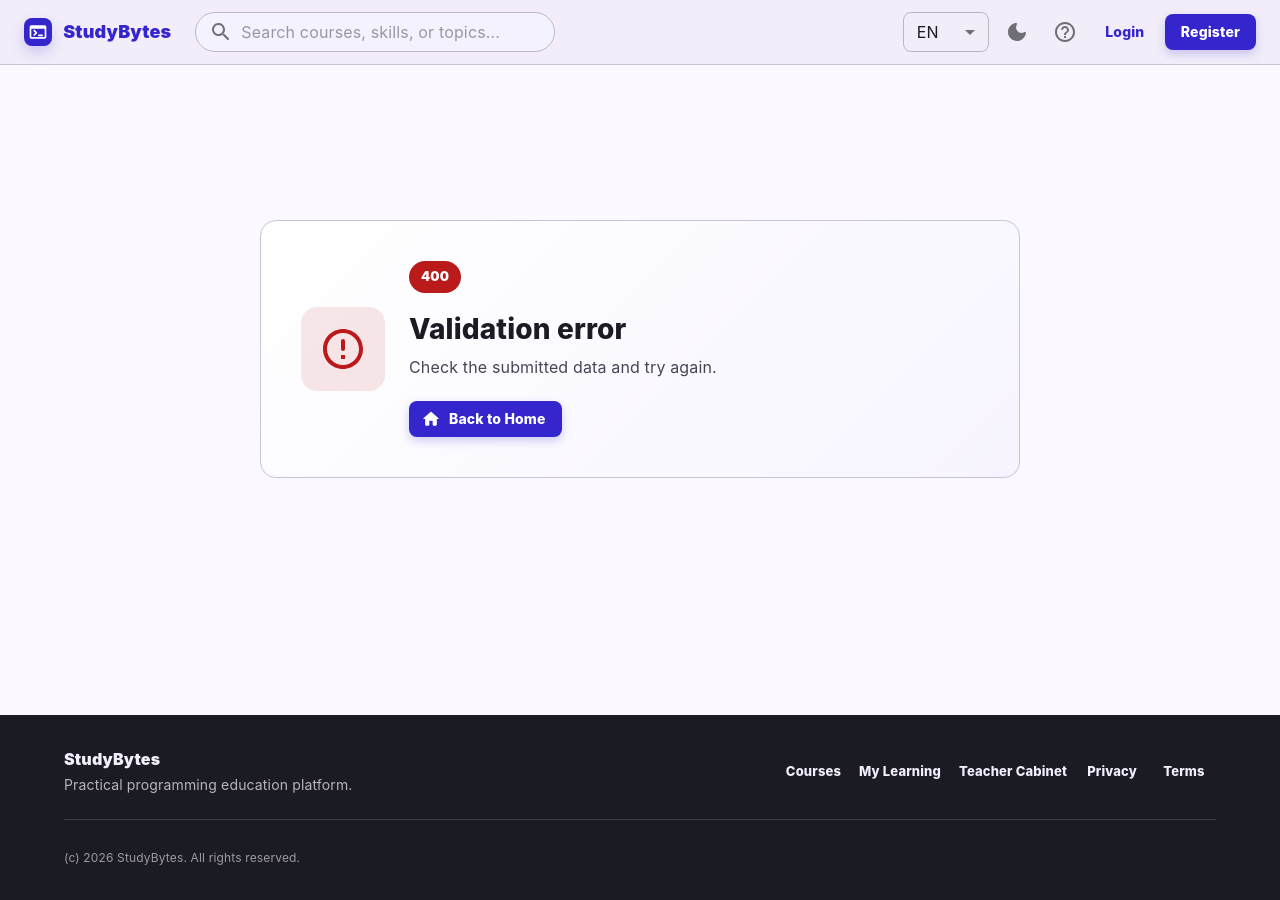
Scenario: StudyBytes final QA states › changes language through the switcher
Expected: the heading "Validation error" is shown, [409,312,626,346]
Step 1. Click the dropdown → x=928, y=32, box [917,22,939,42]
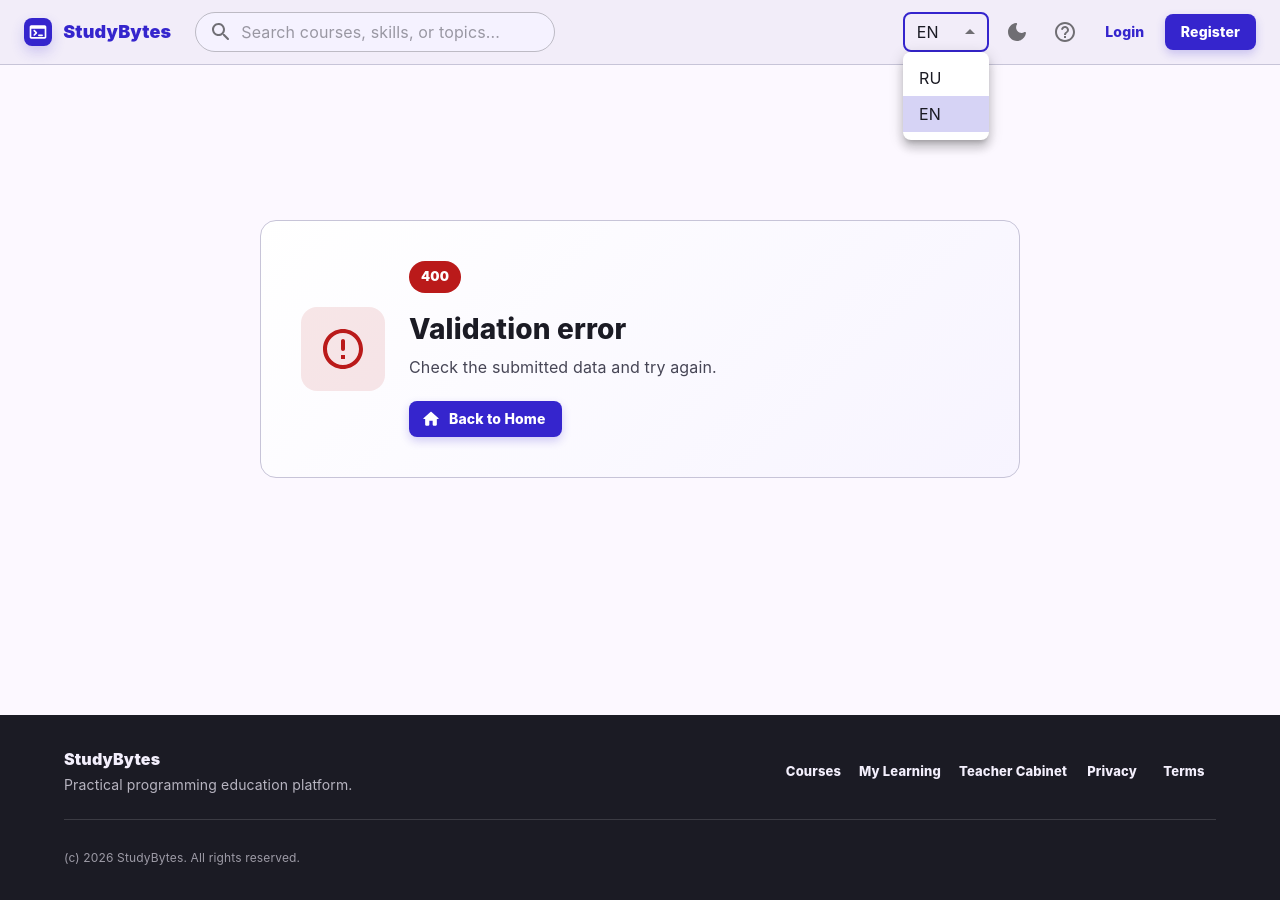
Step 2. Click the option "RU" → x=930, y=78, box [919,68,942,88]
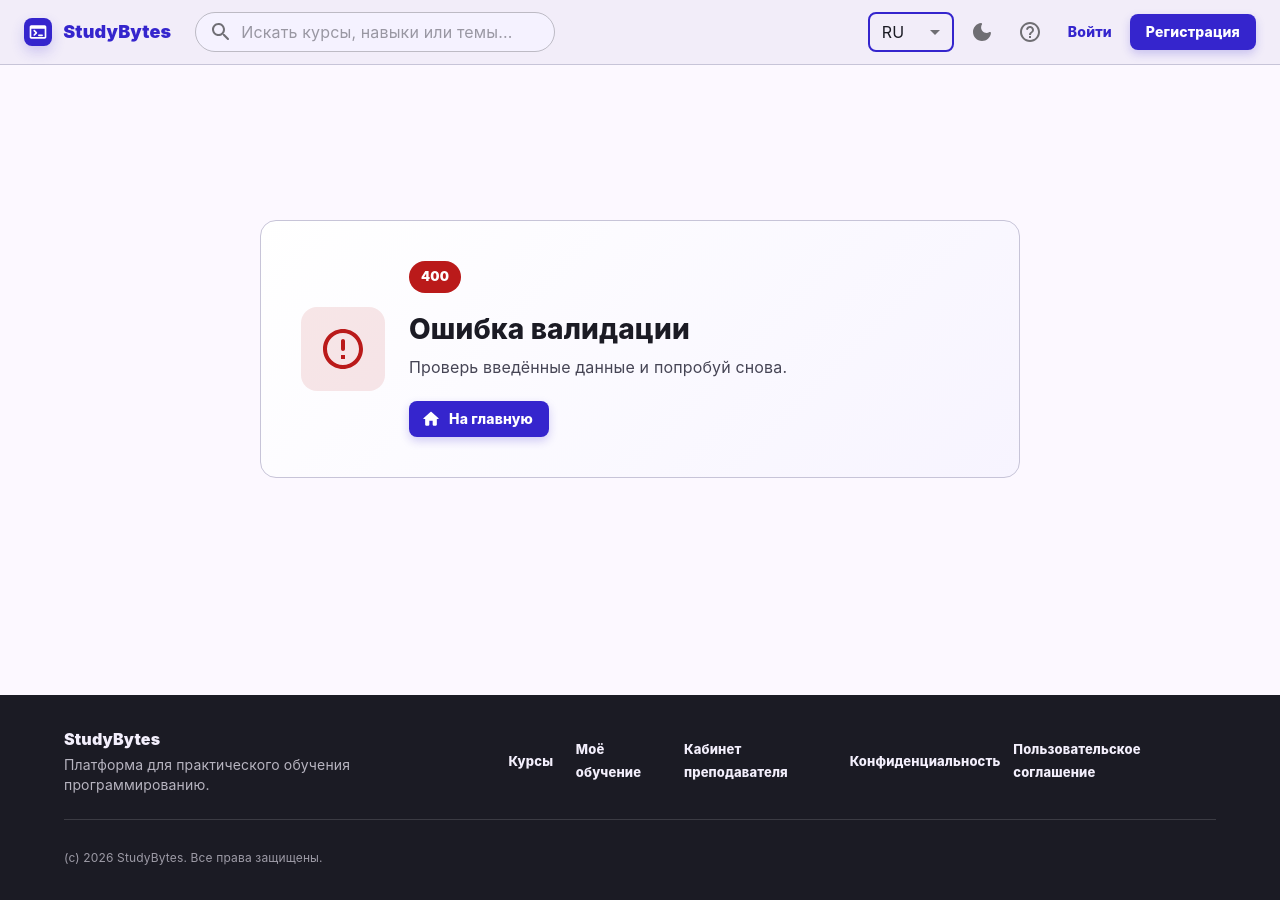
Result: the heading "Ошибка валидации" is shown at [409,312,690,346]
